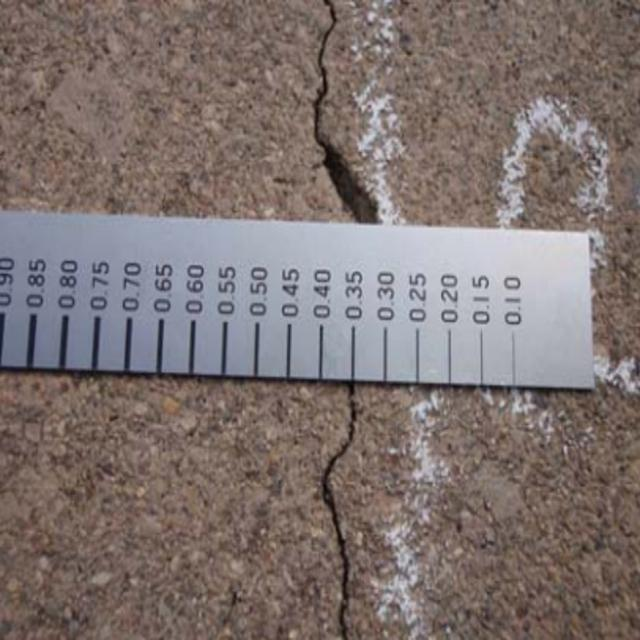crack: (302, 0, 404, 231), (304, 383, 367, 636)
